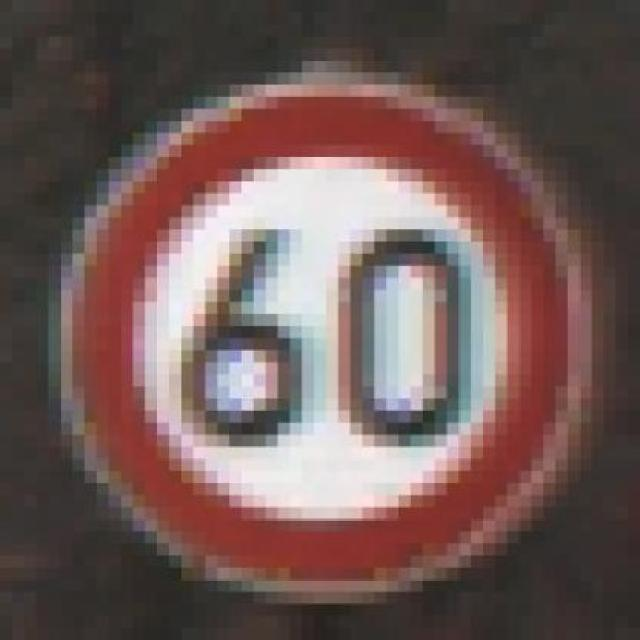forb_speed_over_60: (75, 93, 566, 584)
